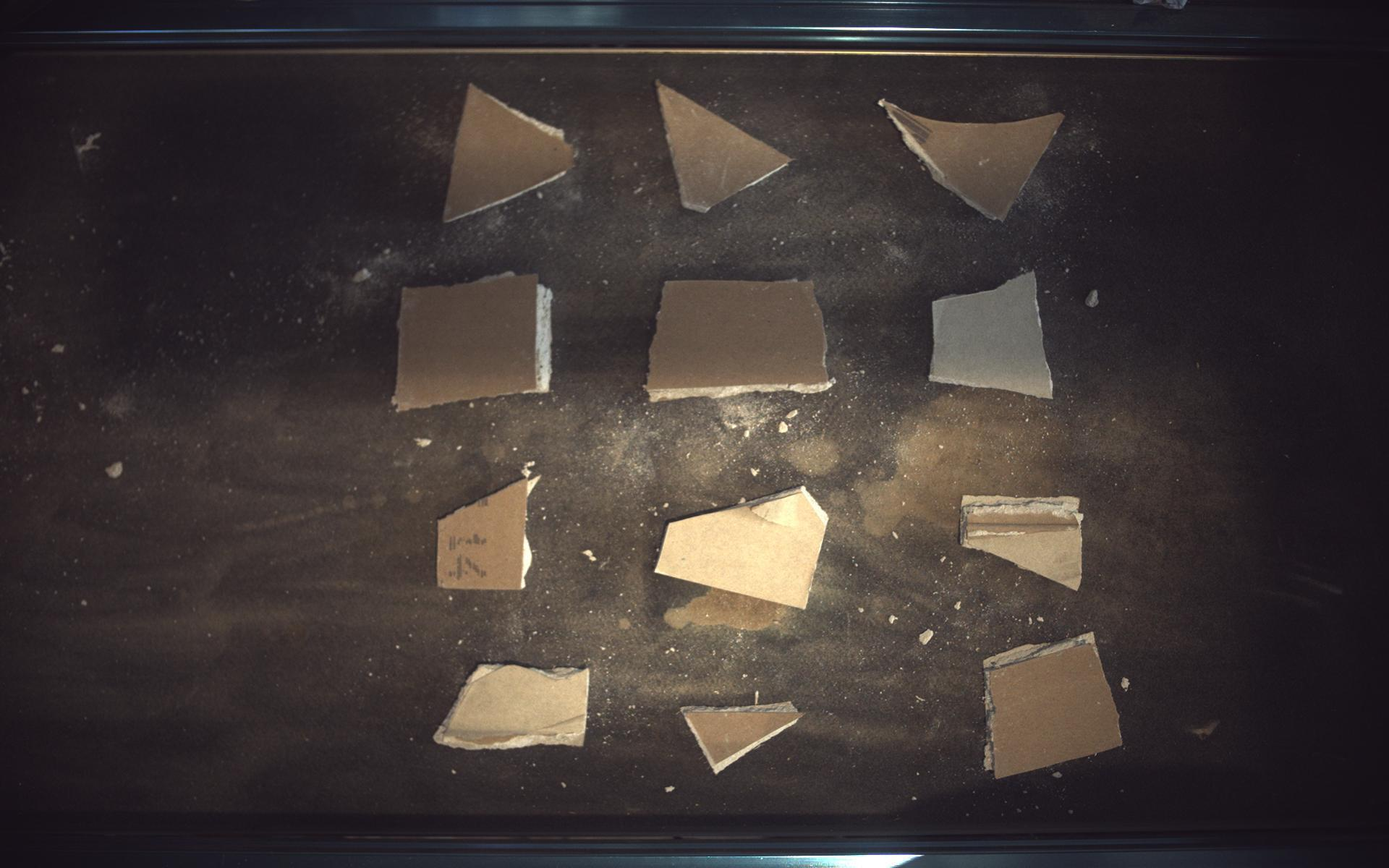gypsum_board: (647, 281, 836, 401), (881, 98, 1066, 220), (392, 272, 552, 412), (656, 488, 829, 609), (986, 633, 1125, 780), (443, 82, 575, 221), (657, 80, 791, 212), (933, 271, 1055, 399), (433, 665, 590, 751), (437, 477, 540, 591), (962, 496, 1085, 591), (682, 702, 803, 774)
